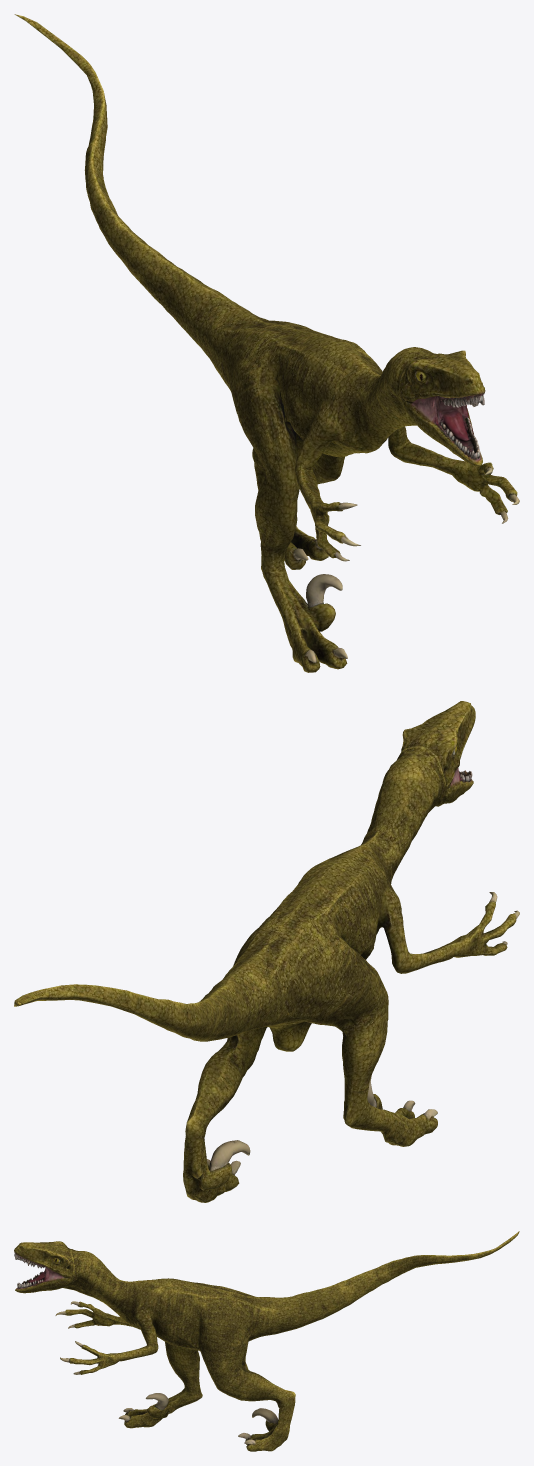
File: MZ2450 - Deinonychus.glb
3 renders of one model, top to bottom at view 1: azimuth 30°, elevation 25°; view 2: azimuth 150°, elevation 25°; view 3: azimuth 270°, elevation 25°, orthographic. The views are drawn at different scales.
Parts seen in each view (by area): view 1: Deinonychus.001; view 2: Deinonychus.001; view 3: Deinonychus.001.
Part boxes in pixels (x1,y1,x2,y2): Deinonychus.001: (14,14,519,672); Deinonychus.001: (14,701,519,1202); Deinonychus.001: (14,1231,519,1451).
Size of the model in its own units: 22.63 by 42.47 by 93.98.
Materials: 1 (1 with a texture image).
